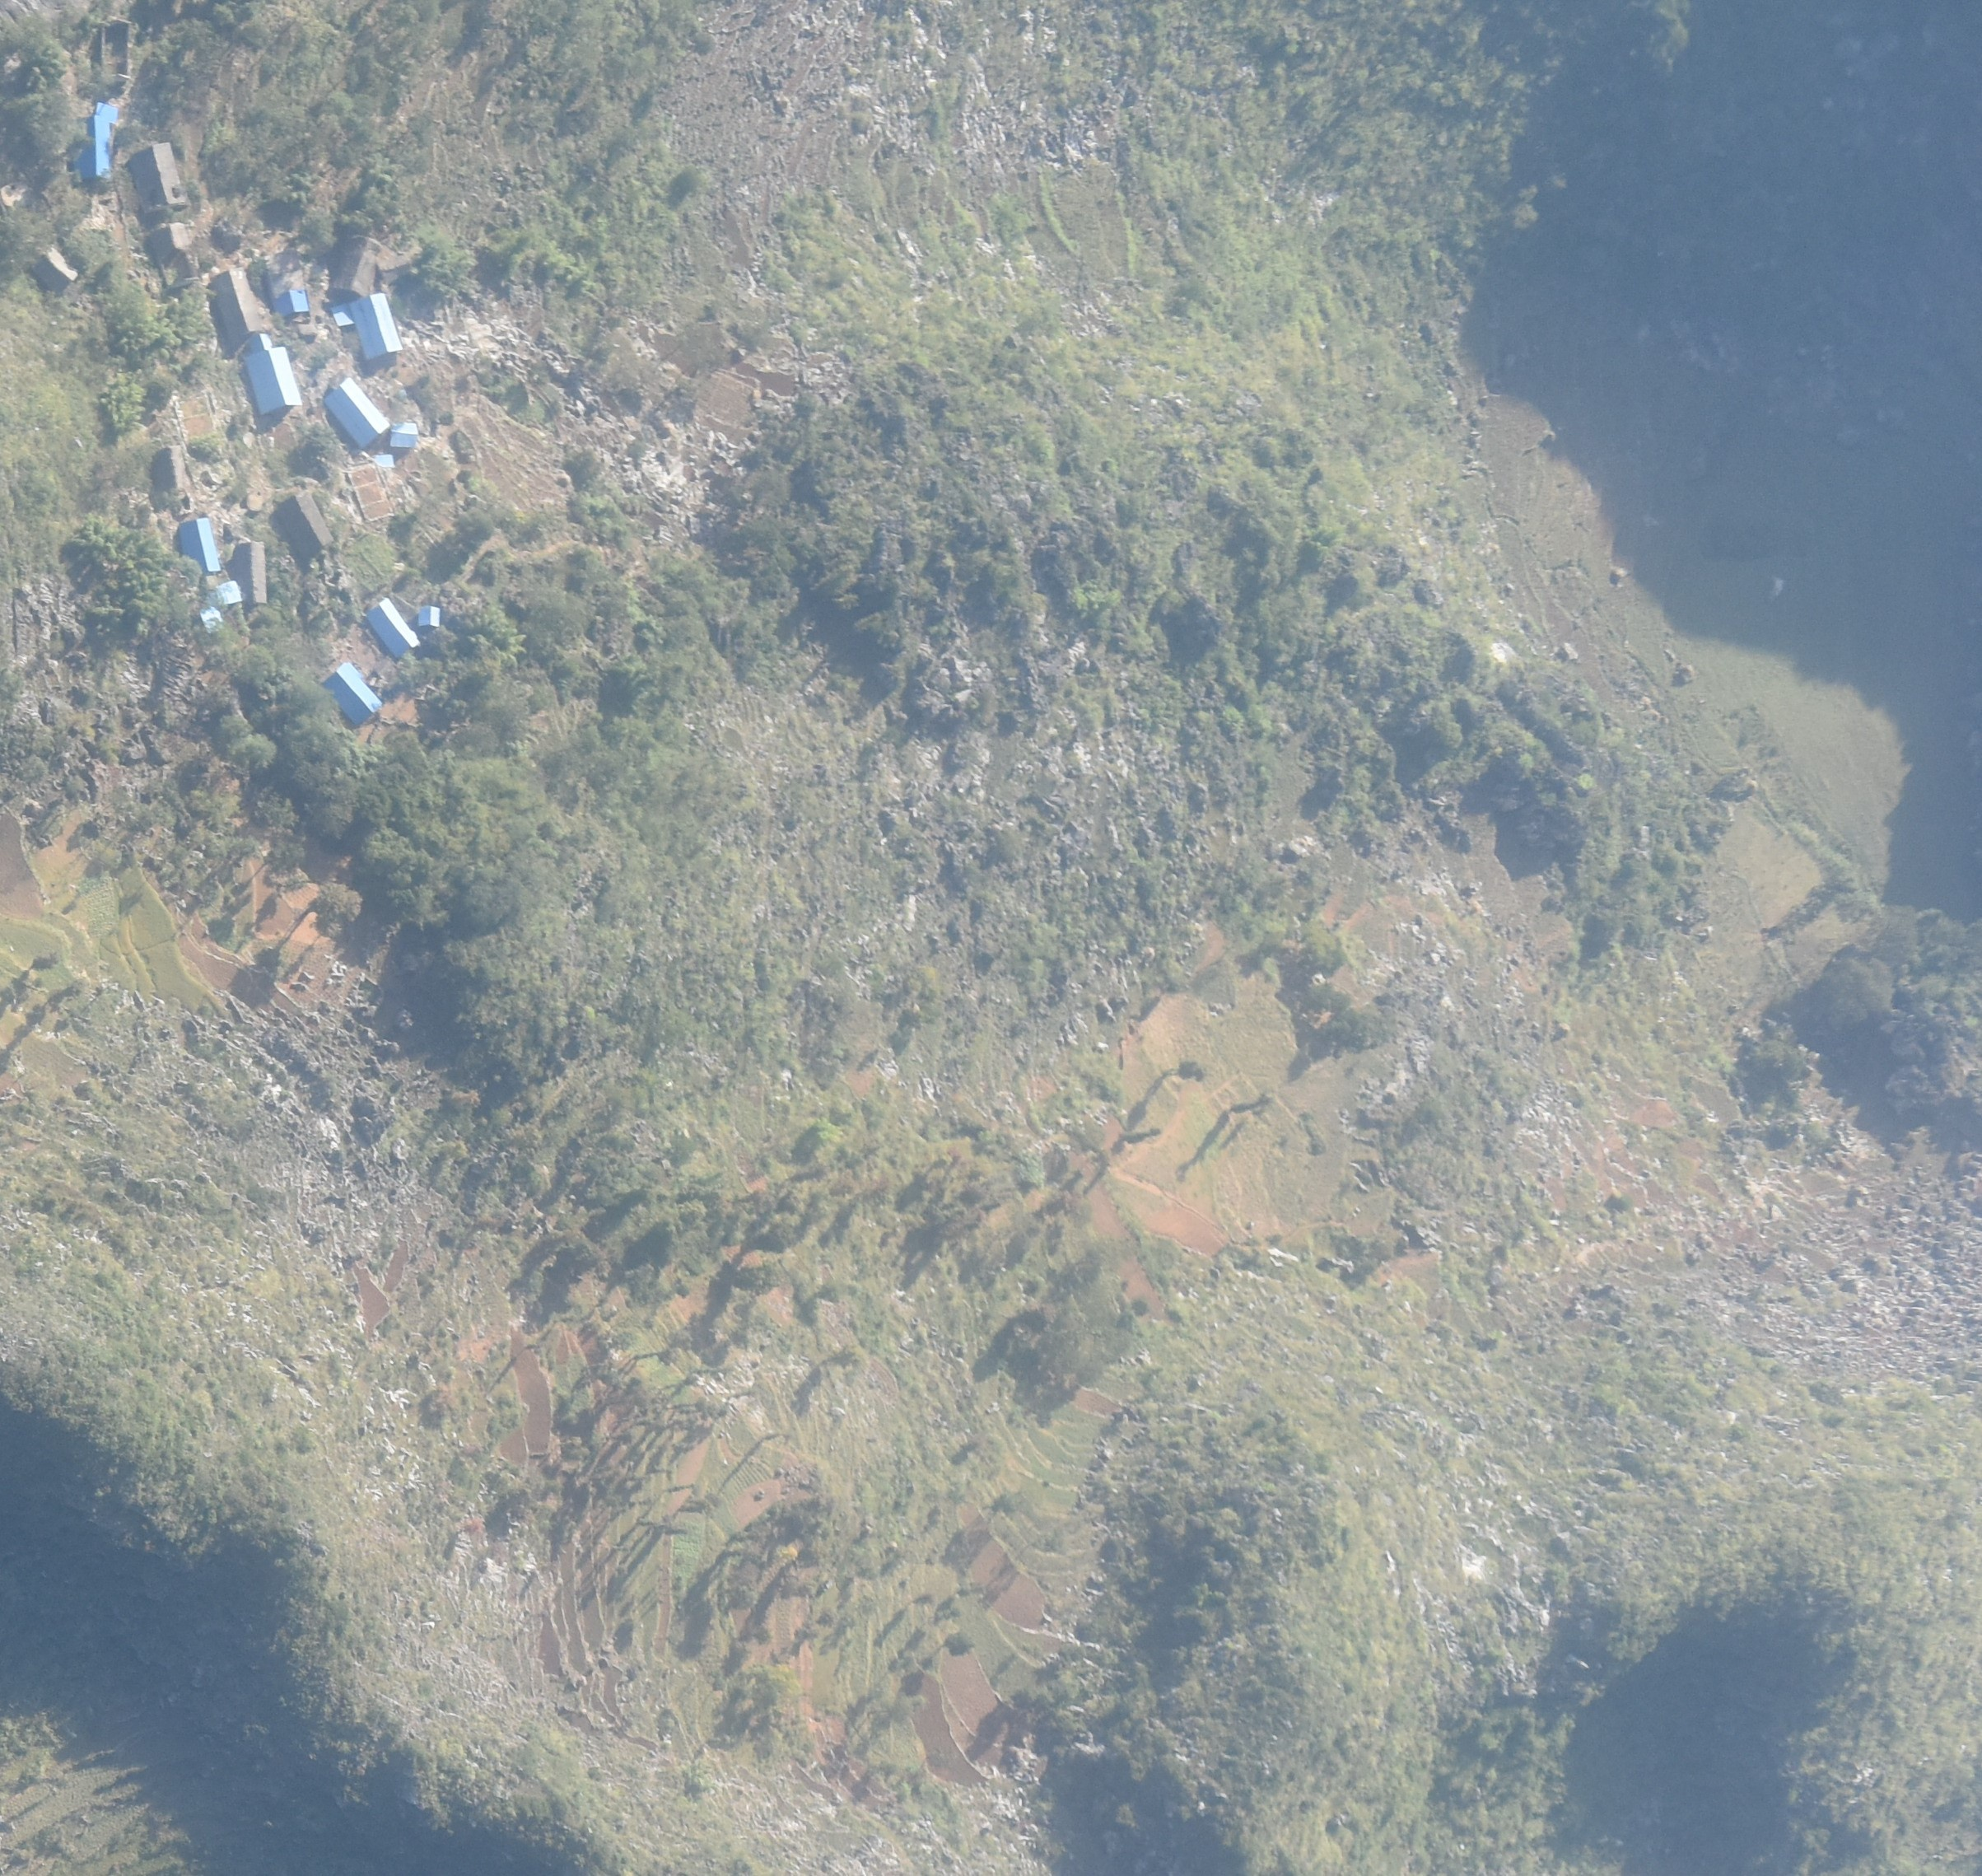building: (212, 268, 259, 346), (133, 142, 187, 210), (282, 491, 334, 558), (335, 233, 386, 292), (33, 247, 77, 294), (235, 541, 266, 604), (104, 21, 134, 81), (150, 224, 193, 259), (156, 445, 185, 491), (2, 180, 35, 209)
prefabricated-house: (324, 380, 391, 449), (325, 660, 382, 726), (248, 346, 299, 413), (352, 295, 403, 361), (364, 600, 422, 657), (79, 100, 119, 178), (181, 517, 219, 575), (275, 291, 306, 315), (215, 579, 242, 605), (390, 422, 417, 448), (200, 604, 222, 632), (331, 304, 357, 327), (420, 605, 442, 630), (243, 334, 276, 348), (374, 452, 393, 471)
well: (245, 489, 265, 511)
